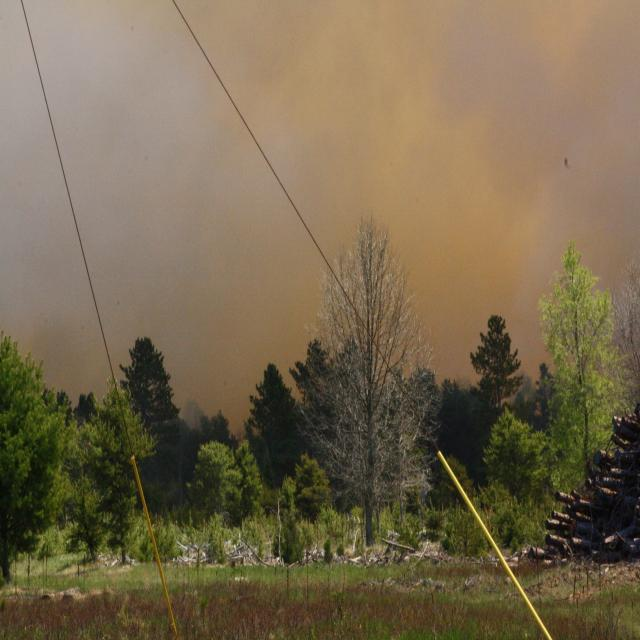Smoke: (0, 0, 640, 385)
